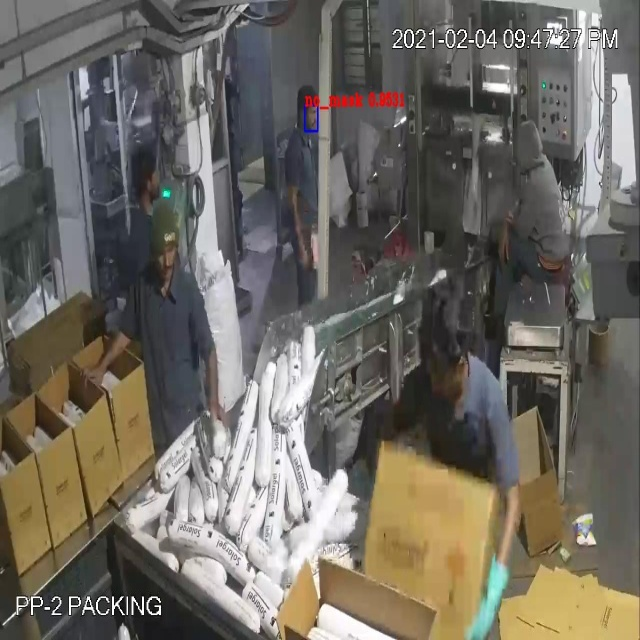Guantes: (461, 549, 517, 640)
Sin_guantes: (76, 332, 131, 389), (284, 180, 315, 274), (197, 337, 224, 432), (495, 216, 514, 273)
